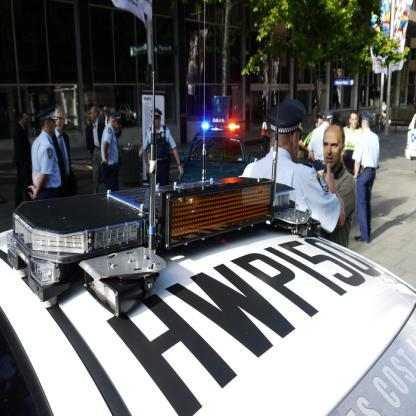car: (178, 121, 260, 185), (406, 108, 416, 168)
